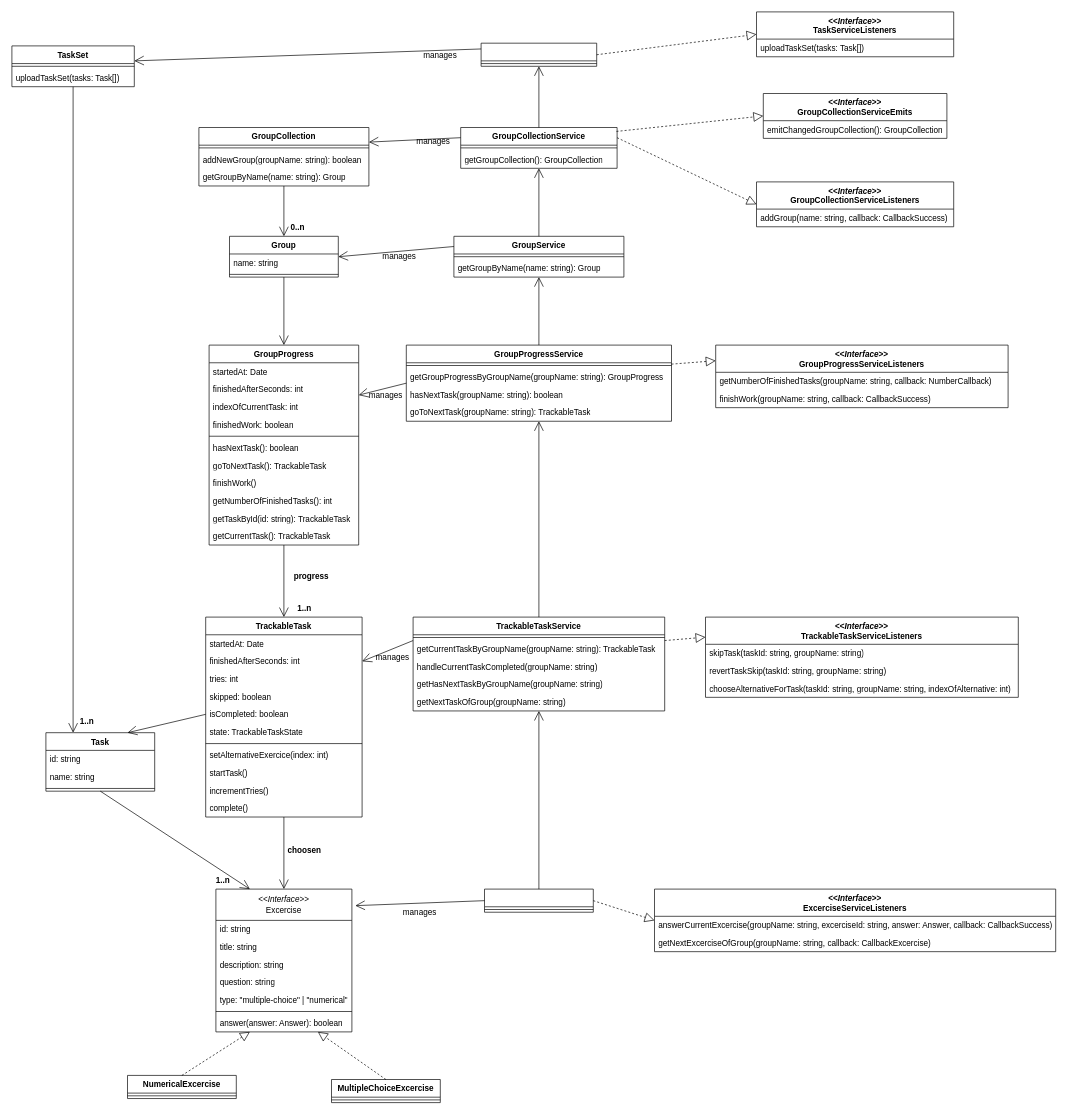
The diagram is 1068 pixels wide and 1115 high, and some of its shapes have lost their labels. The centre of each missing label's shape, as x and y in pixels:
"ExcerciceService" goes at point 538,900.
"TaskService" goes at point 538,54.
